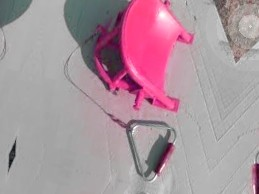chock: (79, 0, 205, 122)
